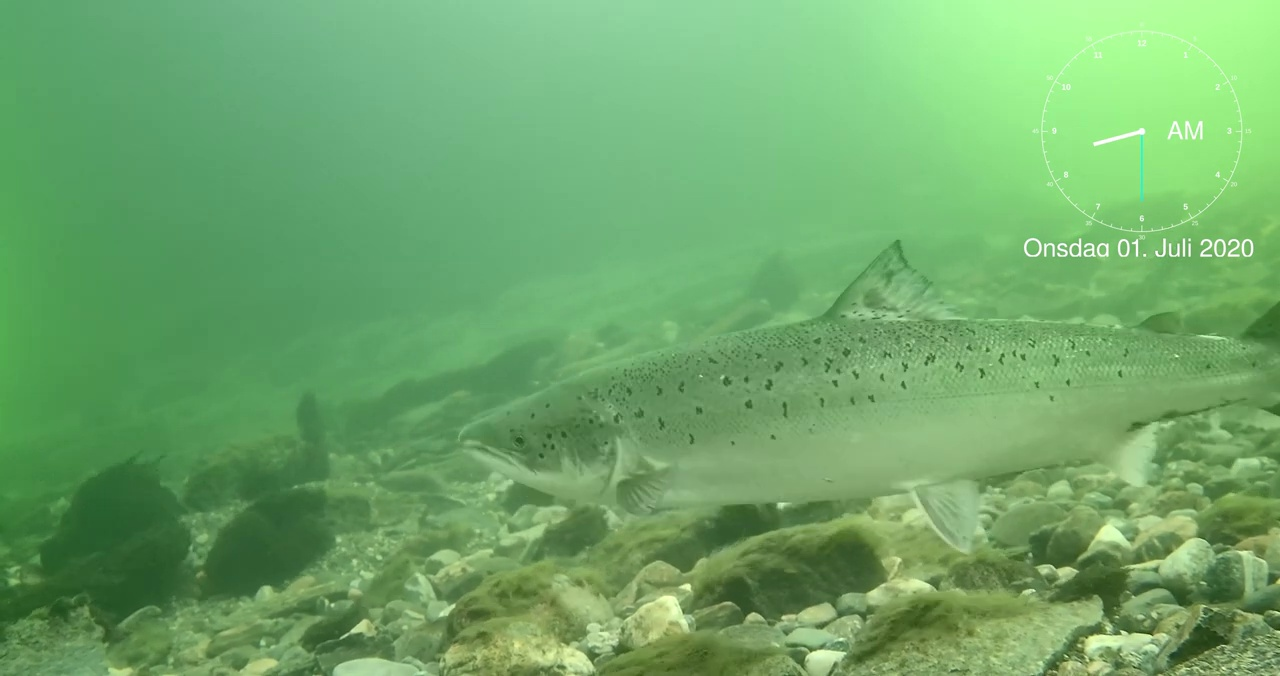salmon: (453, 236, 1280, 555)
